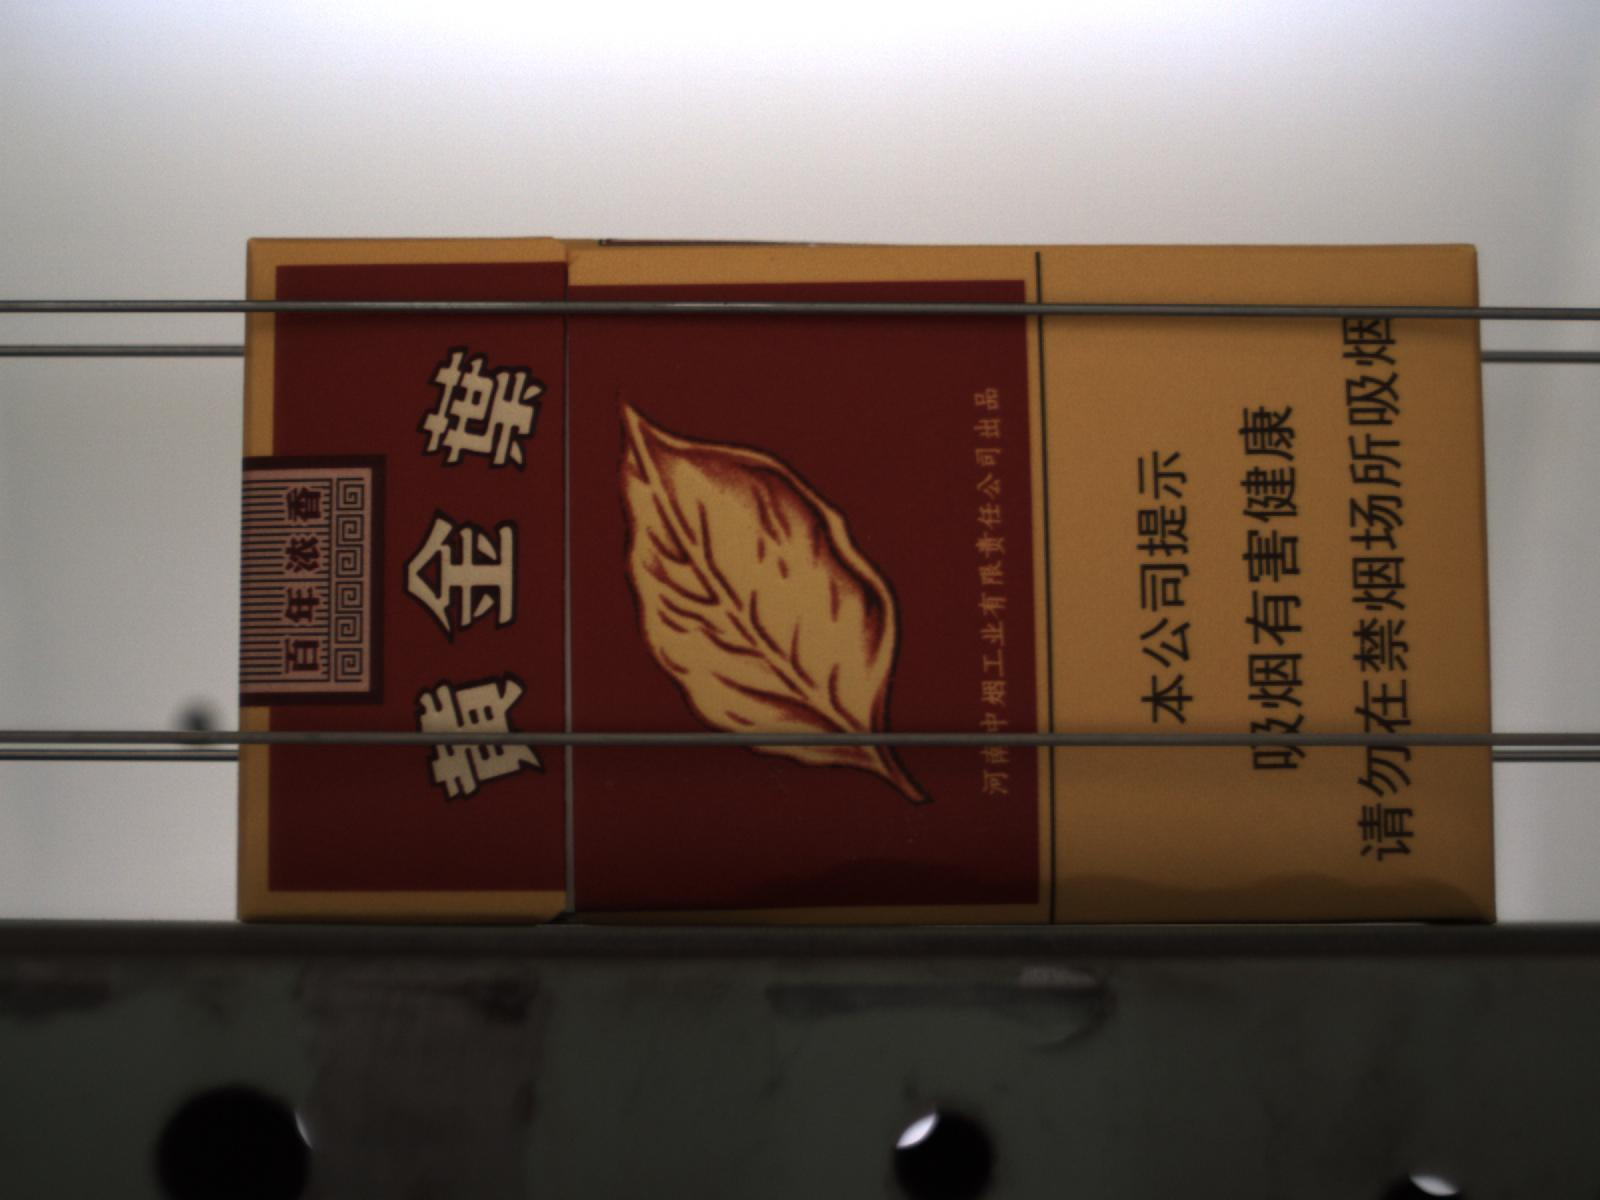boxDamage_slight: (586, 857, 1490, 923)
dirtyPrint: (602, 776, 617, 790)
skewed_upper_0: (551, 234, 829, 256)
